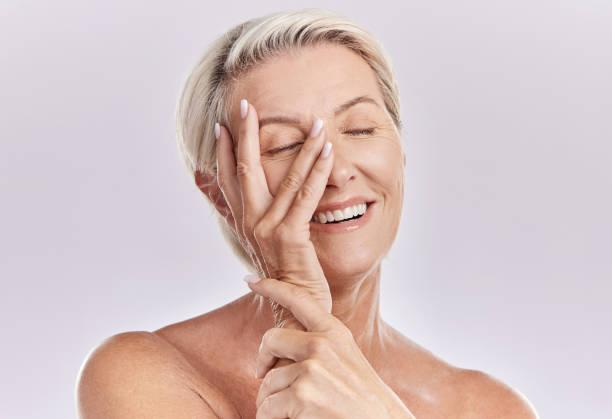Dry-Skin: (364, 136, 424, 227), (259, 64, 351, 114)
